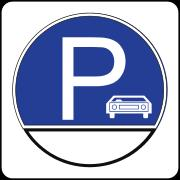Parking Lot Cars: (29, 6, 165, 148)
